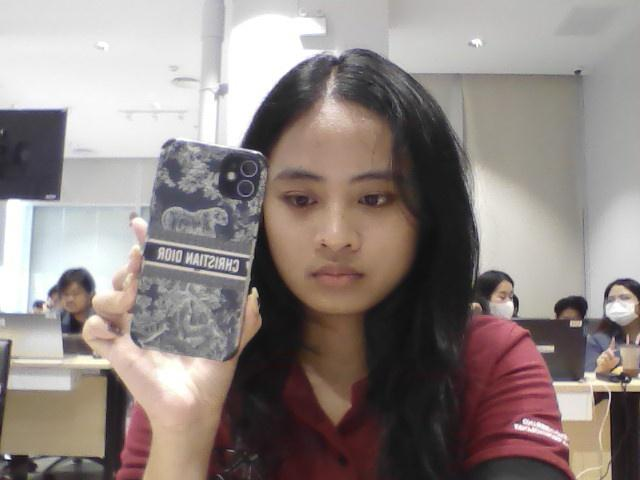iphone: (142, 131, 265, 363)
